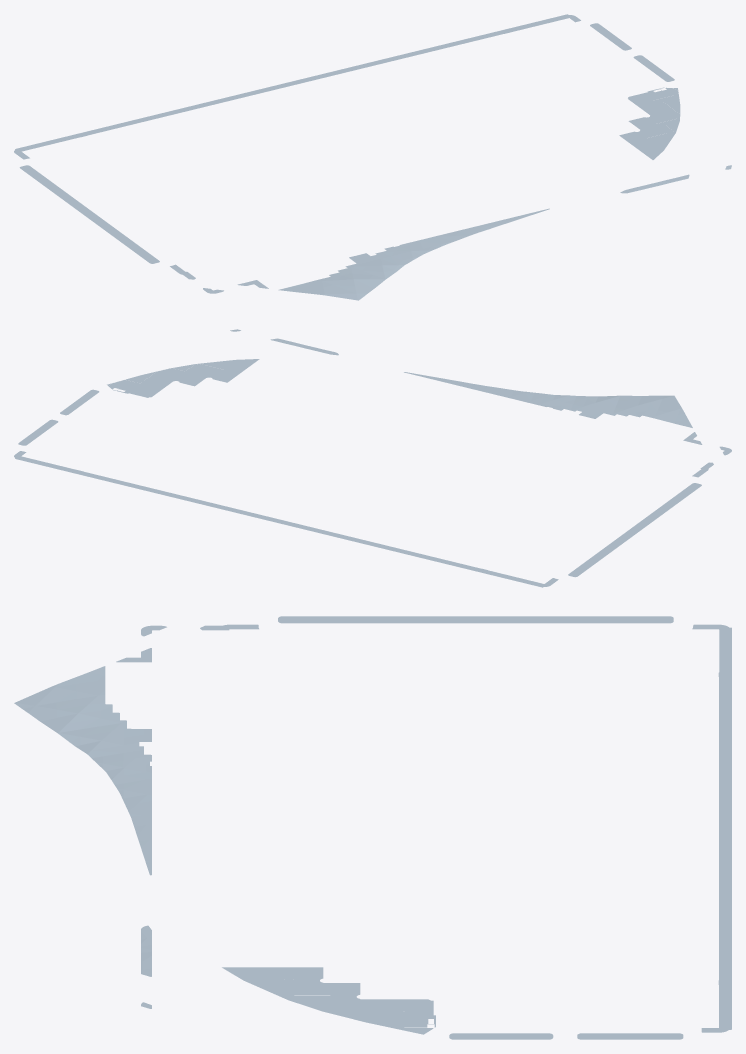
File: SM_MPRGE_CampusGreen.fbx
3 renders of one model, top to bottom at view 1: azimuth 30°, elevation 25°; view 2: azimuth 150°, elevation 25°; view 3: azimuth 270°, elevation 25°, orthographic. The views are drawn at different scales.
Visible parts, largest first — view 1: SM_MPRGE_CampusGreen; view 2: SM_MPRGE_CampusGreen; view 3: SM_MPRGE_CampusGreen.
Boxes of the visible parts, bbox=[...] form: SM_MPRGE_CampusGreen: bbox=[14, 14, 731, 300]; SM_MPRGE_CampusGreen: bbox=[14, 329, 731, 587]; SM_MPRGE_CampusGreen: bbox=[14, 616, 731, 1039].
Bounding box in the file's own units: 41530 × 29759 × 143.
